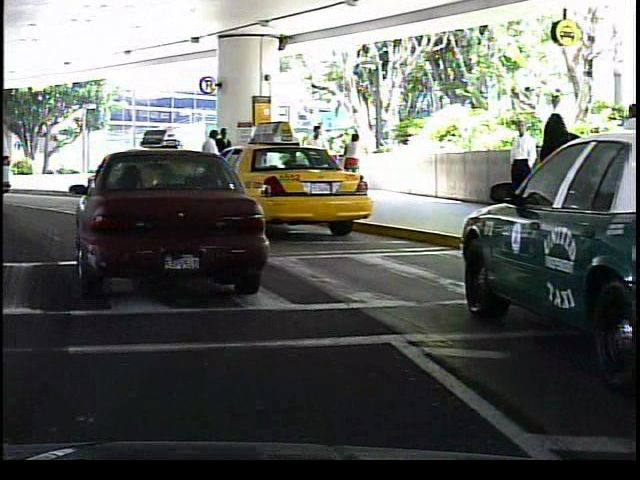person: (531, 106, 587, 256), (611, 94, 640, 261), (500, 113, 538, 221), (301, 123, 330, 194), (198, 128, 223, 197), (338, 130, 365, 191), (215, 125, 235, 194)
